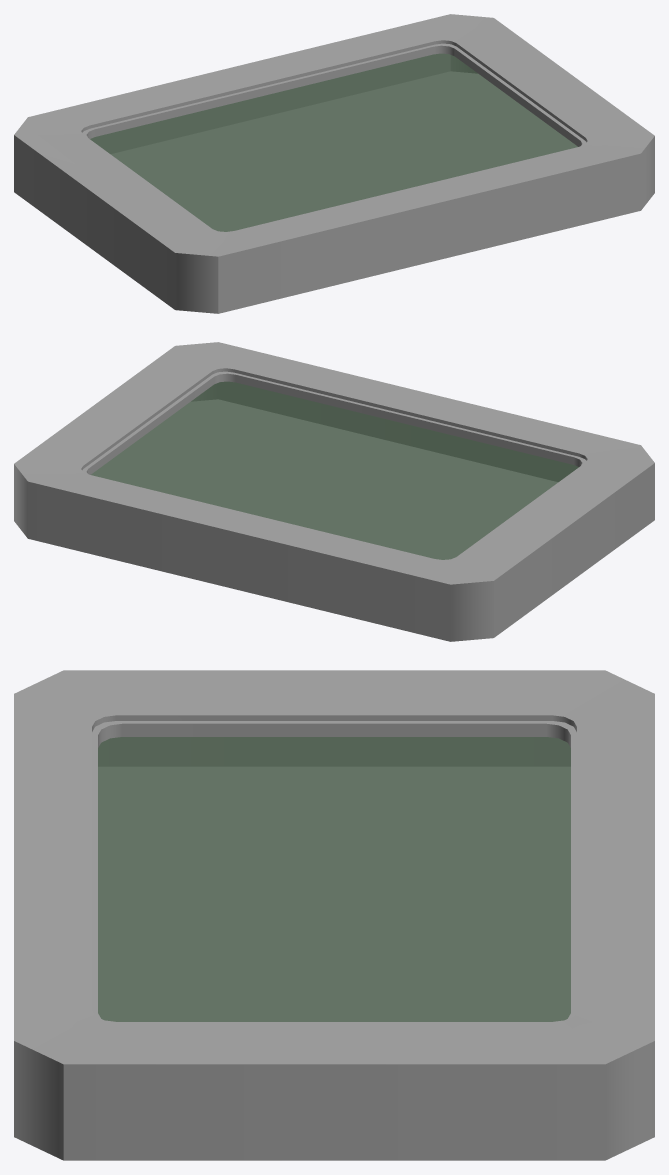
File: Tablet.fbx
3 views of the same model, one above another, from view 1: azimuth 30°, elevation 25°; view 2: azimuth 150°, elevation 25°; view 3: azimuth 270°, elevation 25° (orthographic). The views are drawn at different scales.
Visible parts, largest first — view 1: Tablet; view 2: Tablet; view 3: Tablet.
Boxes of the visible parts, x1,y1,x2,y2 form: Tablet: (14, 14, 654, 313); Tablet: (14, 342, 654, 641); Tablet: (14, 670, 654, 1160).
Bounding box in the file's own units: 2.35 × 0.2675 × 1.61.
